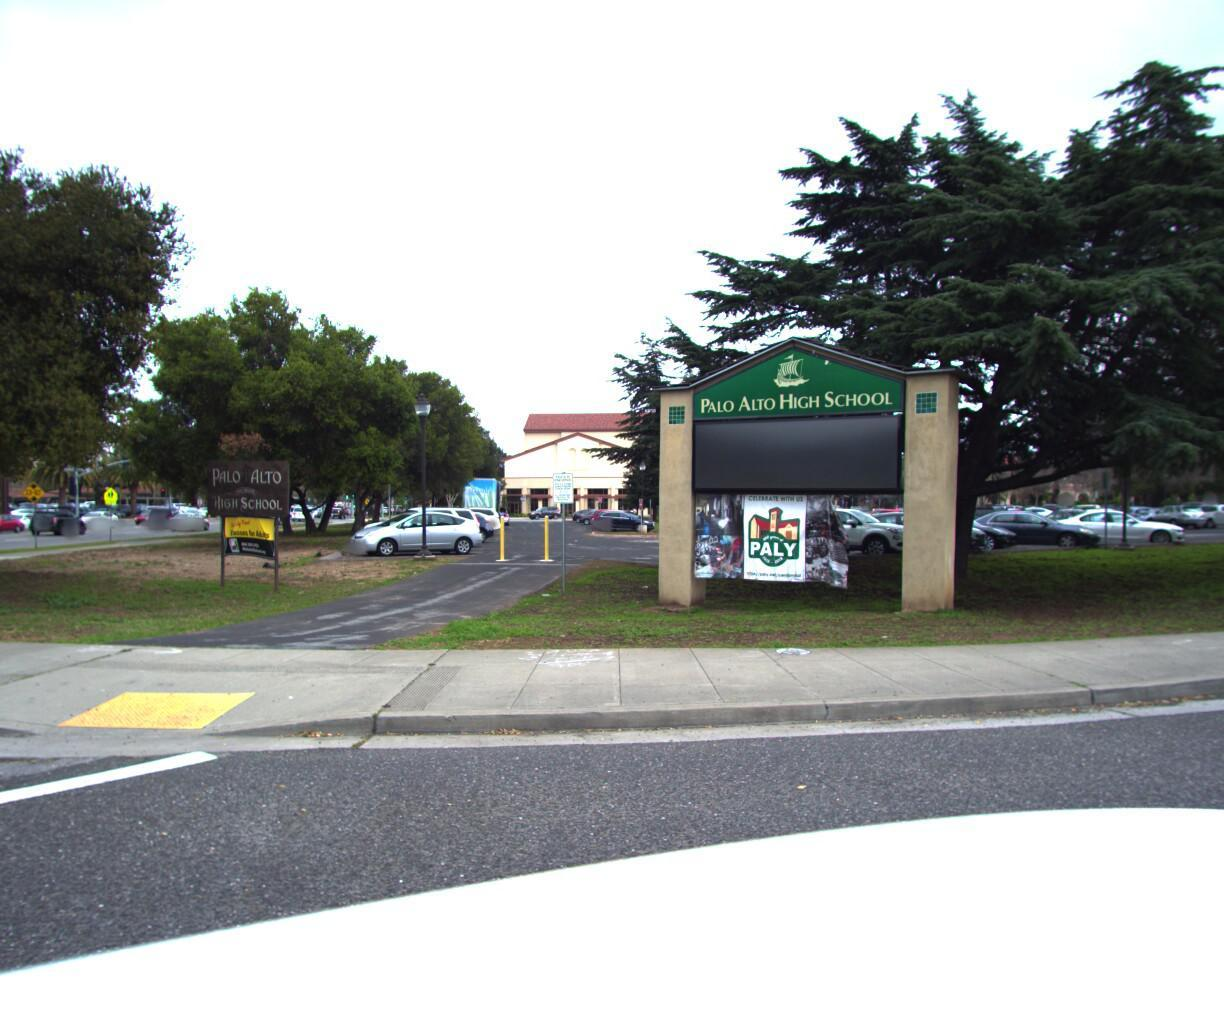car: (29, 509, 97, 537), (150, 508, 195, 529), (171, 515, 215, 534), (78, 514, 124, 532)
